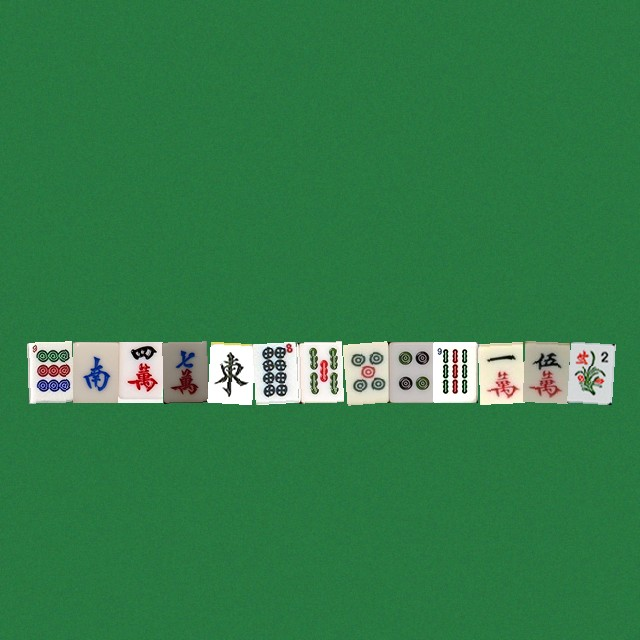tile: (27, 341, 72, 402), (72, 341, 117, 402), (117, 341, 162, 402), (162, 341, 207, 402), (207, 341, 252, 402), (252, 341, 297, 402), (297, 341, 342, 402), (342, 341, 387, 402), (387, 341, 432, 402), (432, 341, 477, 402), (477, 341, 522, 402), (522, 341, 567, 402), (567, 341, 612, 402)
